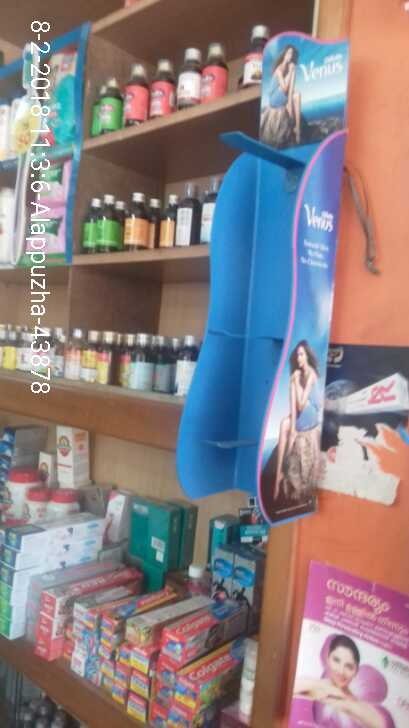reject: (93, 274, 265, 405)
